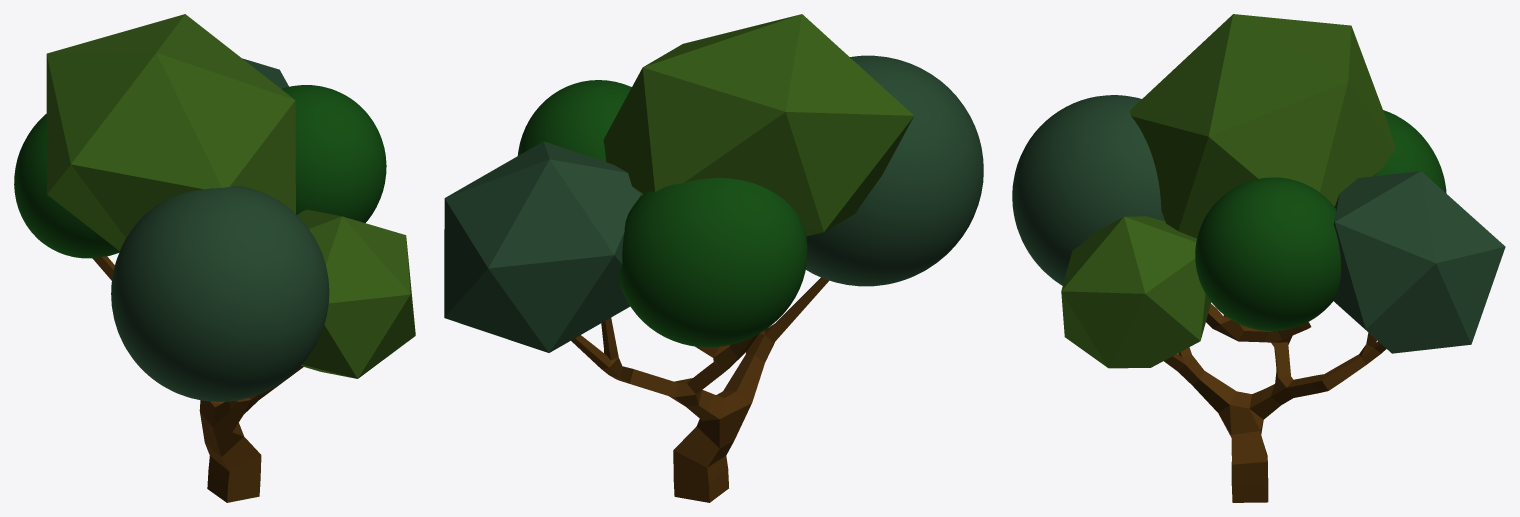
Rendered from tree4_cityedit-Dr-5YcwM.glb.
The picture shows the model from 3 angles, left to right: view 1: azimuth 30°, elevation 25°; view 2: azimuth 150°, elevation 25°; view 3: azimuth 270°, elevation 25°; orthographic projection. The views are drawn at different scales.
Visible parts, largest first — view 1: Icosphere.002, Sphere.005, Icosphere.003, Sphere.003, Sphere.002, Cube, Icosphere; view 2: Icosphere.002, Icosphere, Sphere.002, Sphere.005, Cube, Sphere.003; view 3: Icosphere.002, Icosphere, Sphere.003, Sphere.005, Icosphere.003, Cube, Sphere.002.
Part boxes in pixels (left/top/right/bottom): Icosphere.002: left=46, top=14, right=295, bottom=250; Sphere.005: left=111, top=186, right=329, bottom=401; Icosphere.003: left=297, top=209, right=415, bottom=378; Sphere.003: left=281, top=85, right=386, bottom=222; Sphere.002: left=14, top=114, right=119, bottom=258; Cube: left=92, top=256, right=303, bottom=502; Icosphere: left=242, top=58, right=288, bottom=88; Icosphere.002: left=603, top=14, right=913, bottom=236; Icosphere: left=444, top=141, right=641, bottom=352; Sphere.002: left=620, top=178, right=807, bottom=347; Sphere.005: left=806, top=55, right=983, bottom=286; Cube: left=571, top=277, right=829, bottom=502; Sphere.003: left=517, top=80, right=631, bottom=161; Icosphere.002: left=1129, top=14, right=1395, bottom=238; Icosphere: left=1333, top=171, right=1505, bottom=353; Sphere.003: left=1195, top=177, right=1340, bottom=330; Sphere.005: left=1012, top=95, right=1164, bottom=285; Icosphere.003: left=1061, top=216, right=1211, bottom=368; Cube: left=1164, top=304, right=1386, bottom=502; Sphere.002: left=1374, top=110, right=1446, bottom=193.
Size of the model in its own units: 8.41 by 11.26 by 11.39.
